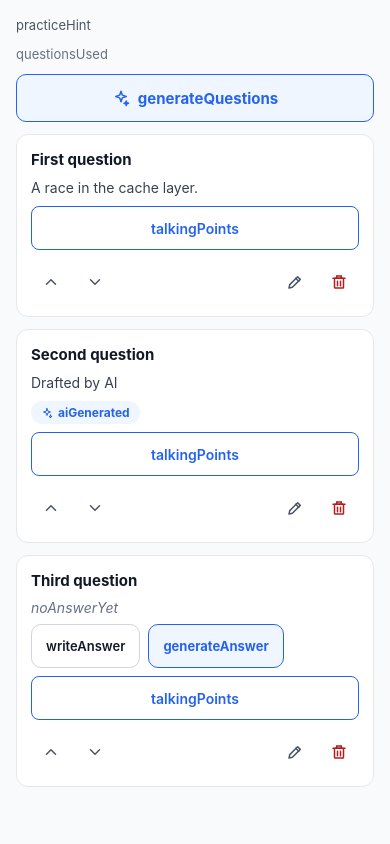
it: MockInterviewQuestionsScreen › generating questions › shows the API’s message when generating fails
The image size is (390, 844).
Click the button with test id "generate-questions-button" at x=195, y=98, box [16,74,374,122]
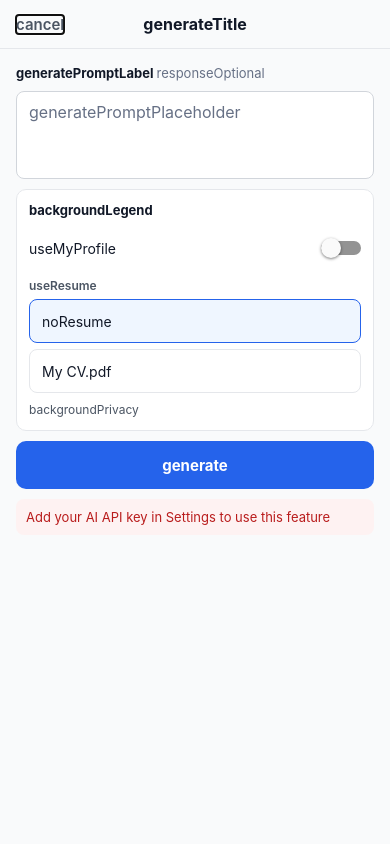
Expected: the text "Add your AI API key in Settings to use this feature" is shown, [16,499,374,535]
